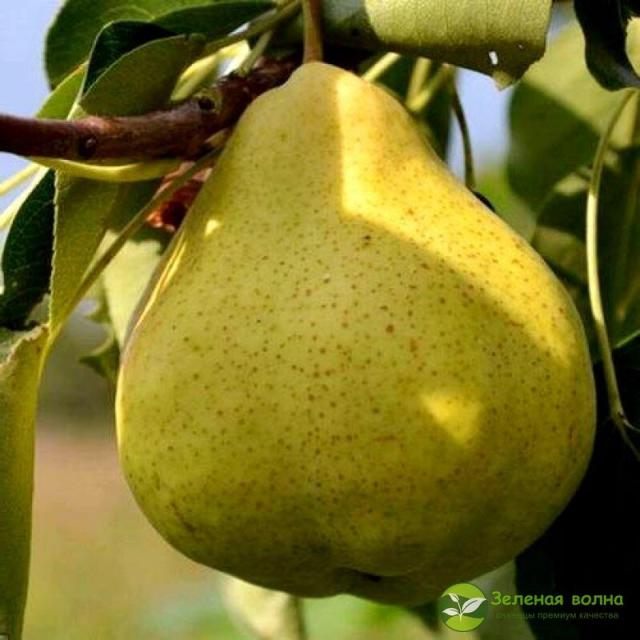pear: (108, 60, 598, 604)
